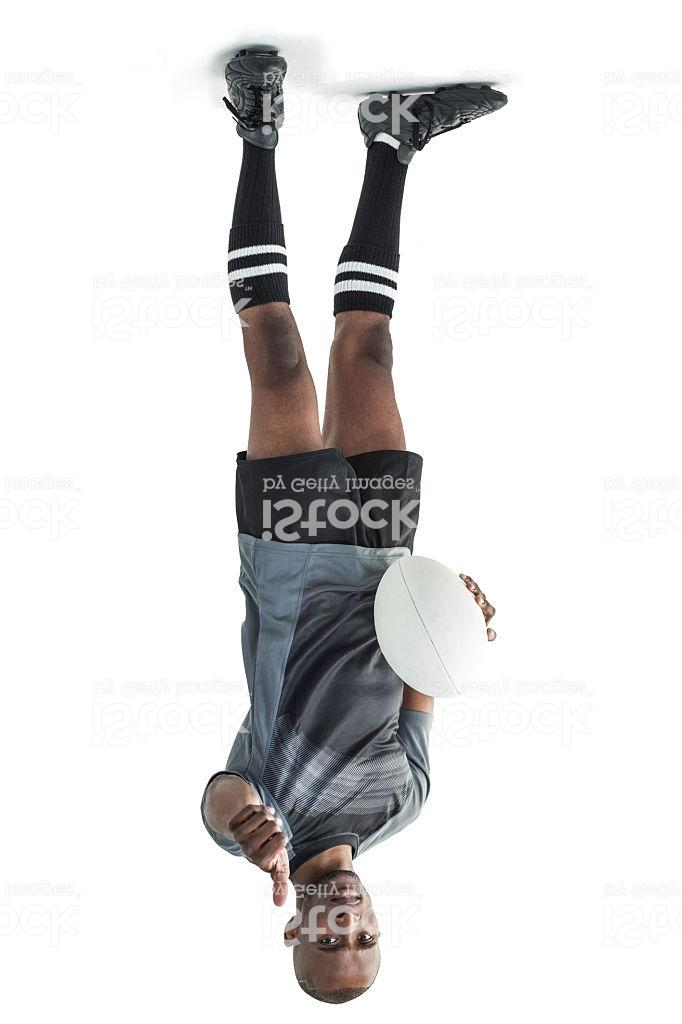thumbsdown: (227, 803, 289, 908)
